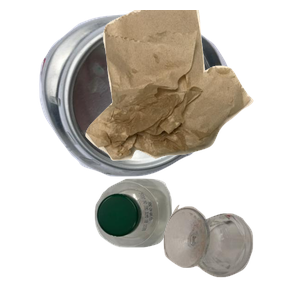glass: (161, 202, 300, 300)
metal: (37, 11, 261, 180)
plastic: (92, 176, 257, 300)
trash: (83, 10, 300, 163)
